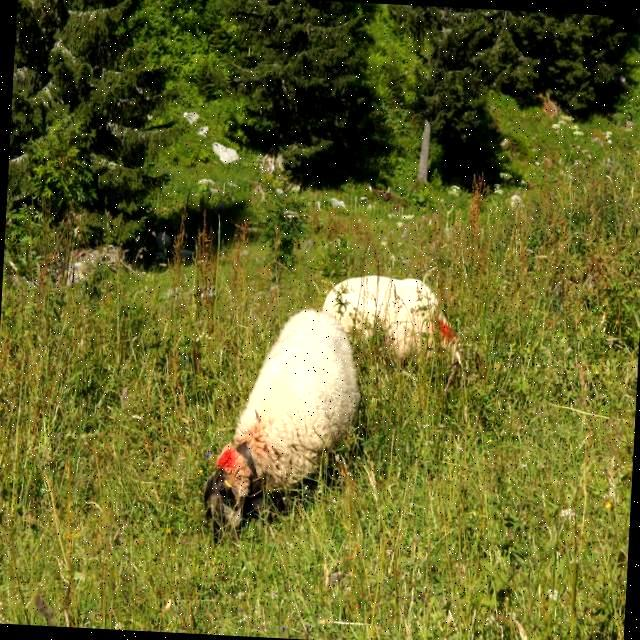sheep: (206, 307, 360, 540), (324, 275, 459, 362)
